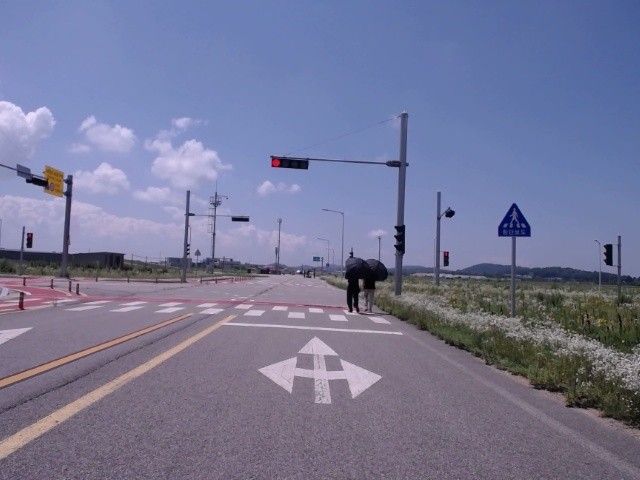red_4: (271, 158, 309, 170)
